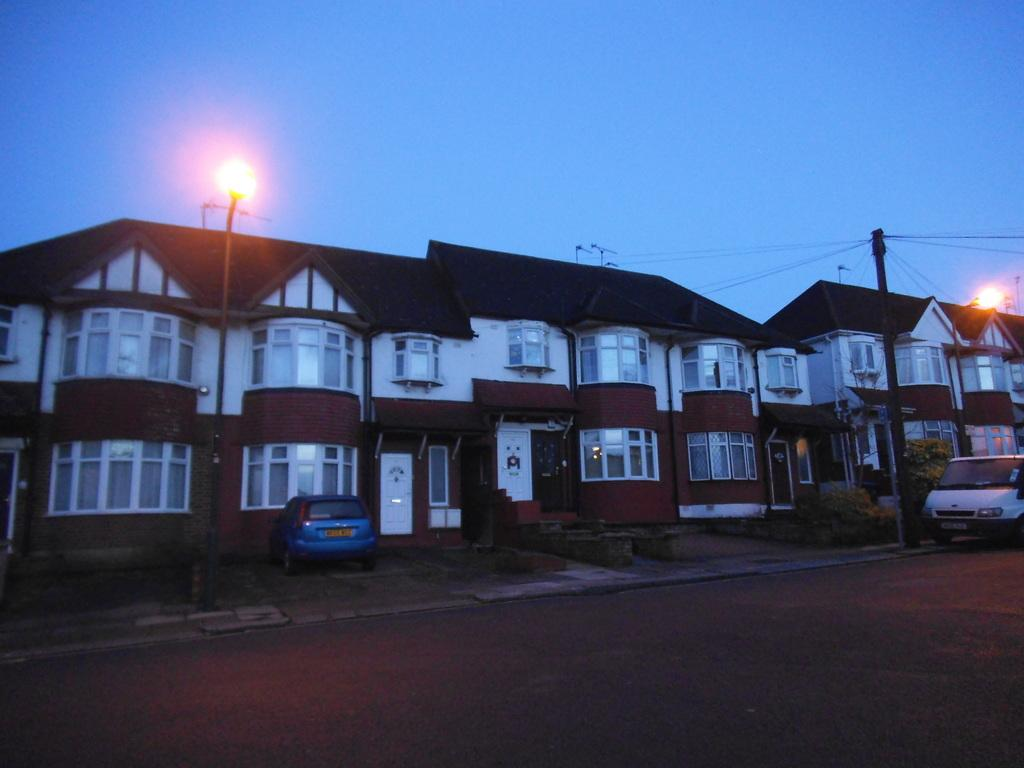vehicle: (920, 453, 1024, 546), (270, 493, 379, 574)
